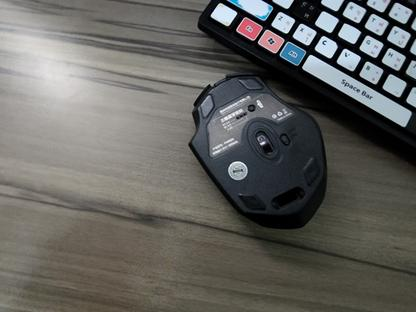mouse: (186, 72, 328, 229)
